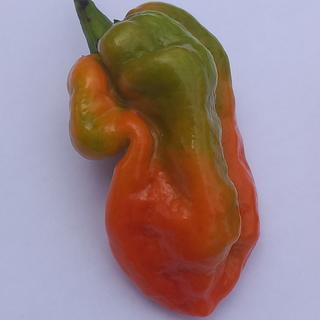Grade-A: (63, 0, 261, 318)
